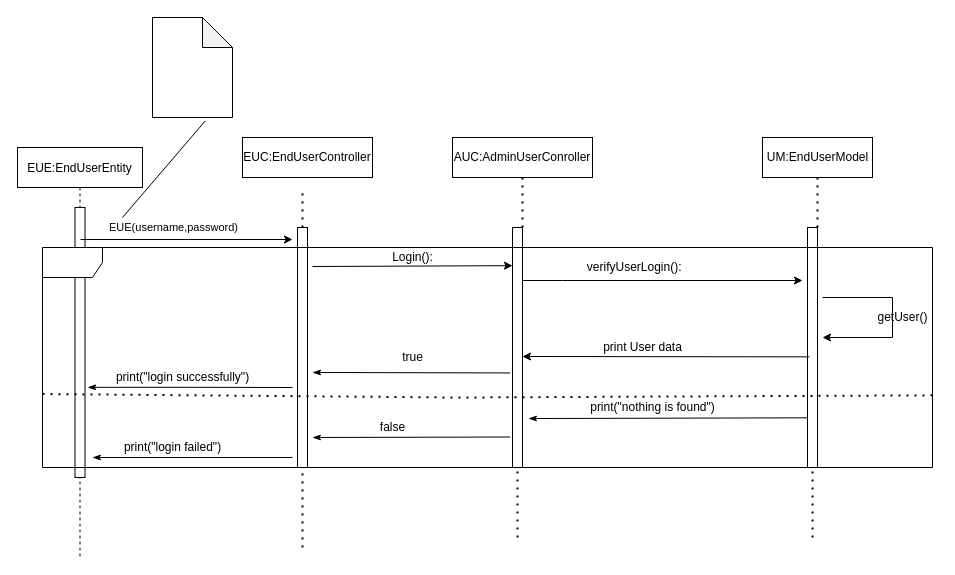
Some shapes in this 955 by 575 pixel diagram are drawn without their labels. Each missing label, with the centre of its shape:
"condition" belongs at pixel 487 357.
"object from DriverEntity" belongs at pixel 192 67.
